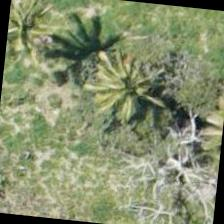Kelapa_Sawit: (77, 38, 176, 137), (5, 0, 72, 70)
